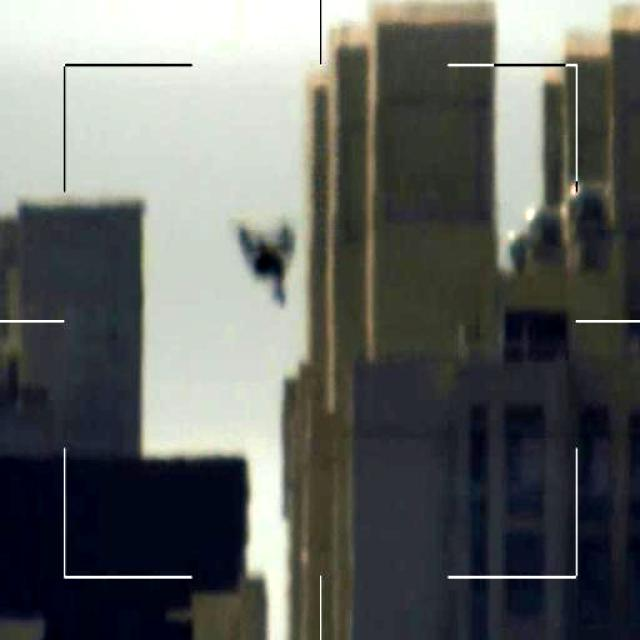bird: (235, 219, 304, 310)
